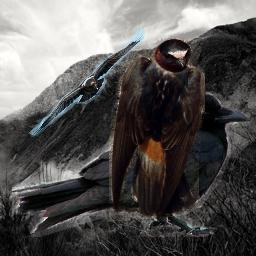Crow: (12, 91, 250, 237), (28, 26, 147, 137)
Swallow: (109, 38, 205, 221)
